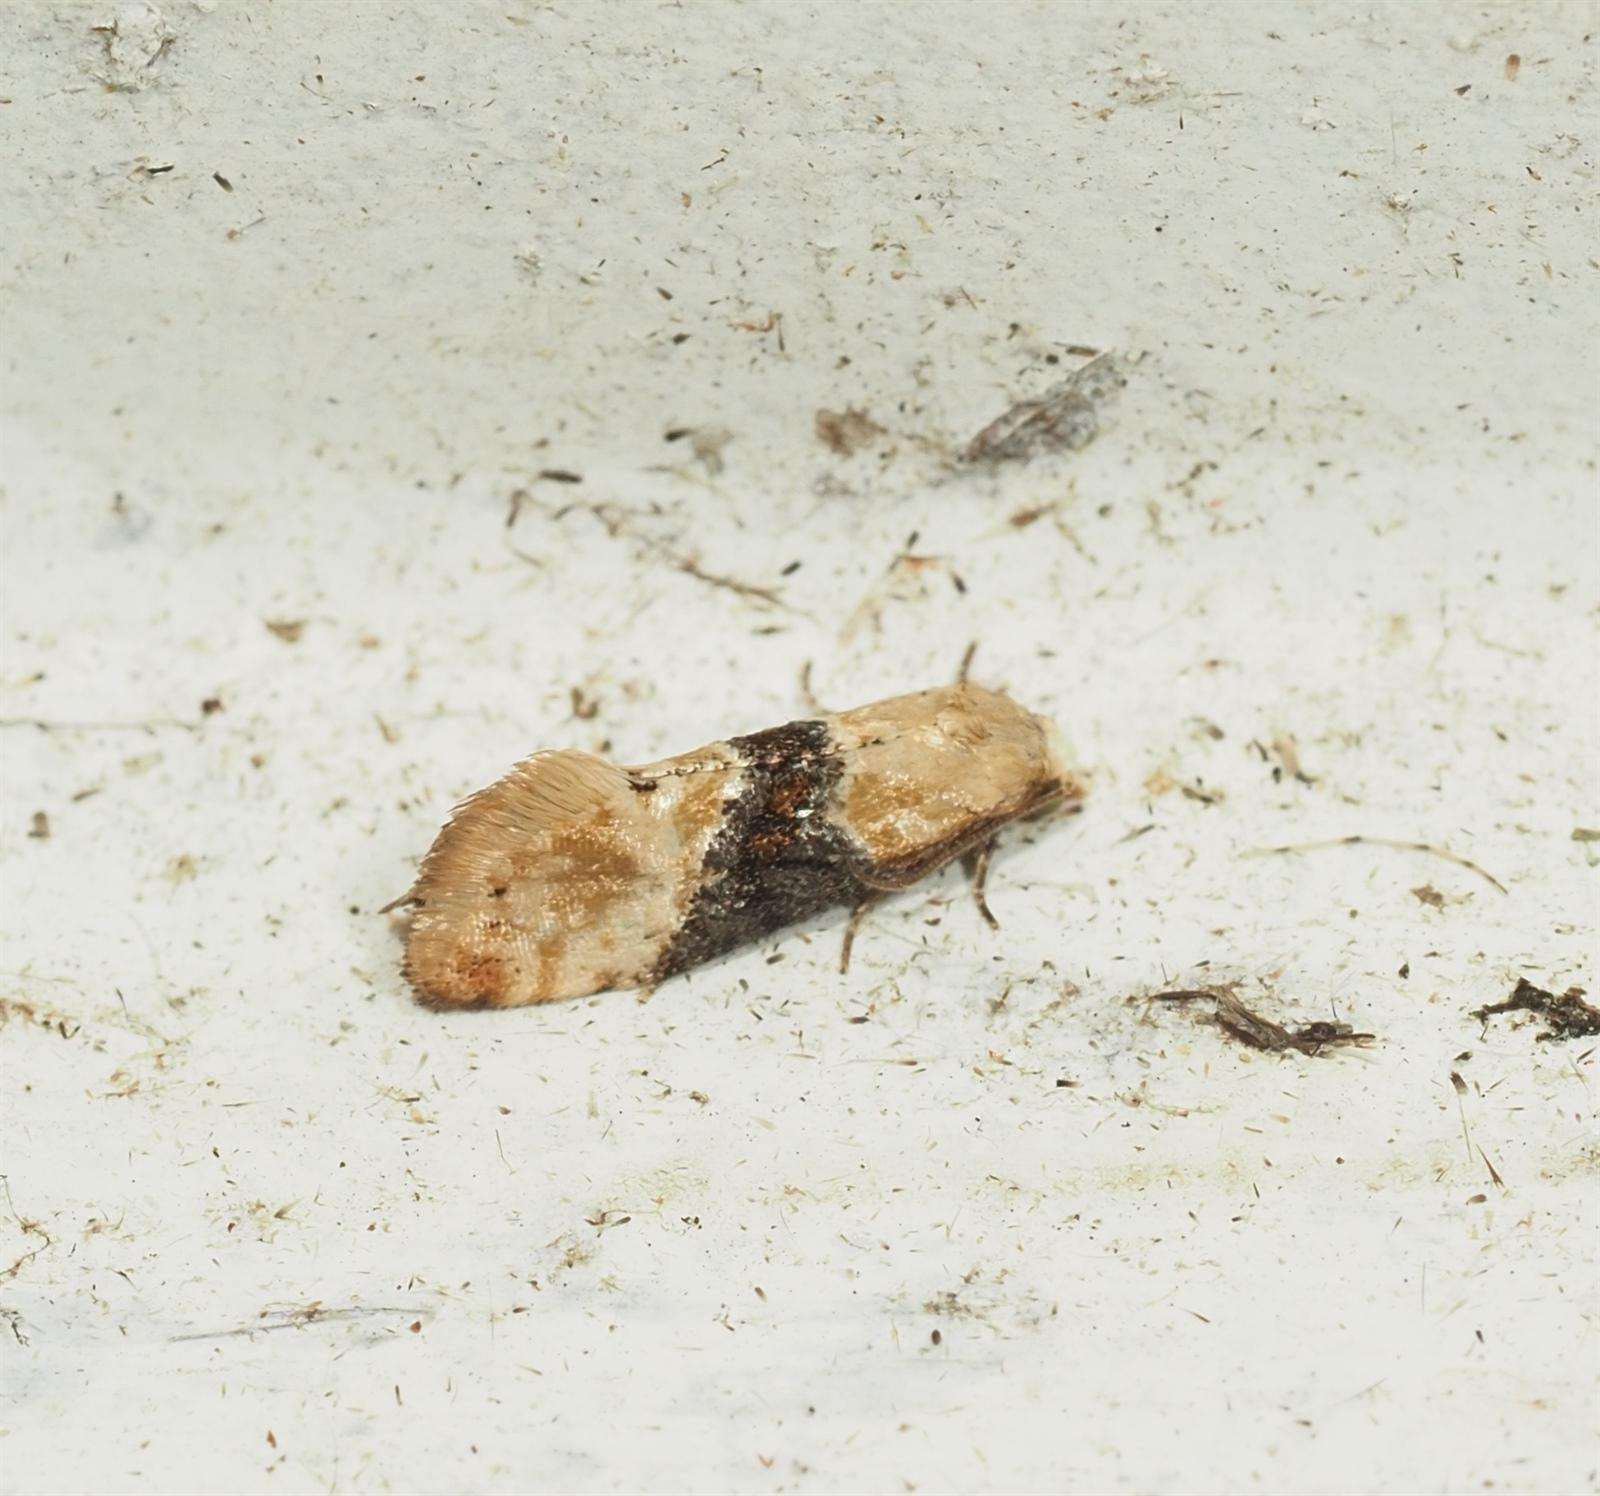Eupoecilia Ambiguella: (377, 643, 1083, 1017)
